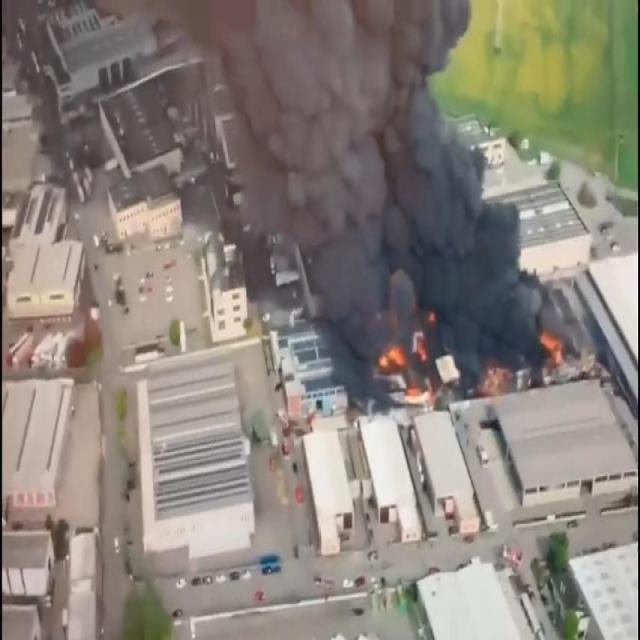smoke: (169, 0, 529, 325)
